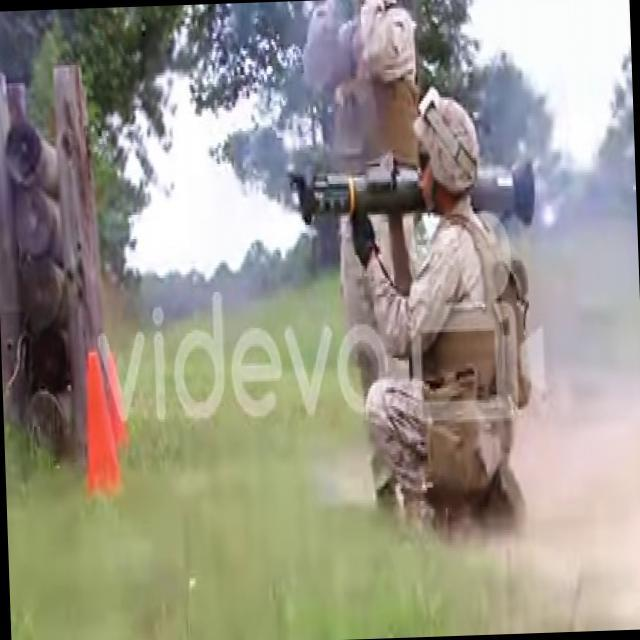rocket: (294, 162, 536, 234)
